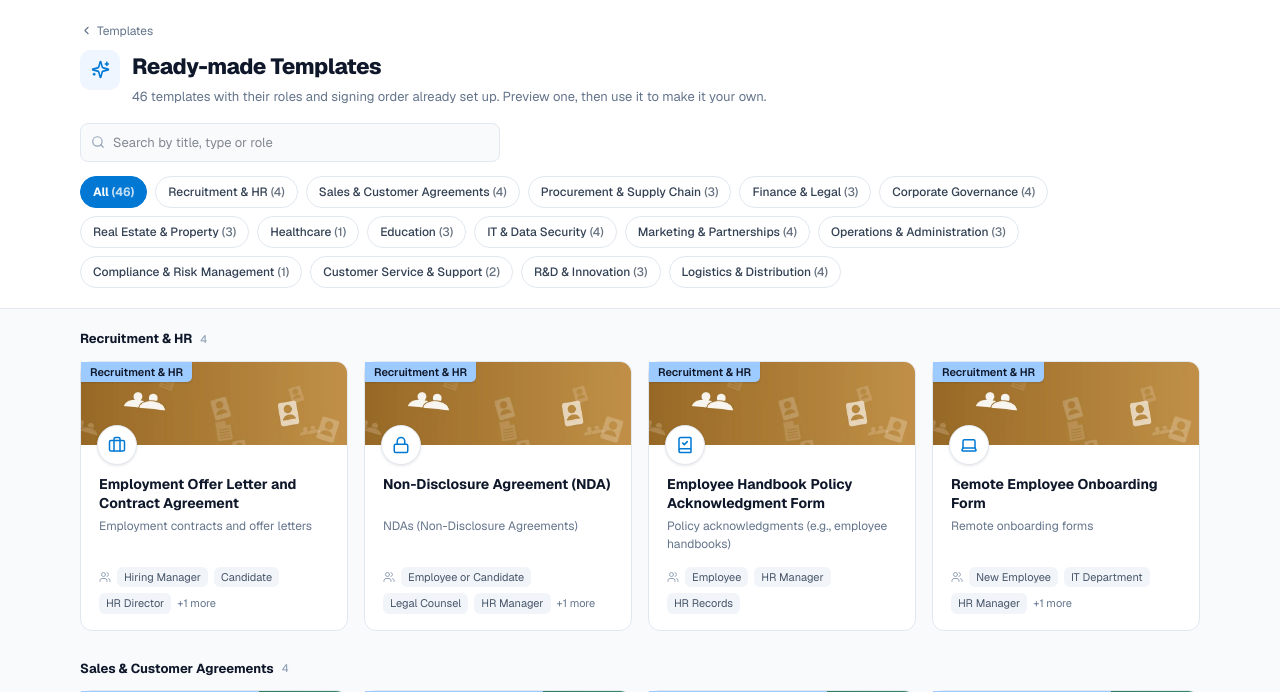
ready-made gallery › filters by category and search
Click the button "Healthcare (1)": click(308, 232) [257,216,359,248]
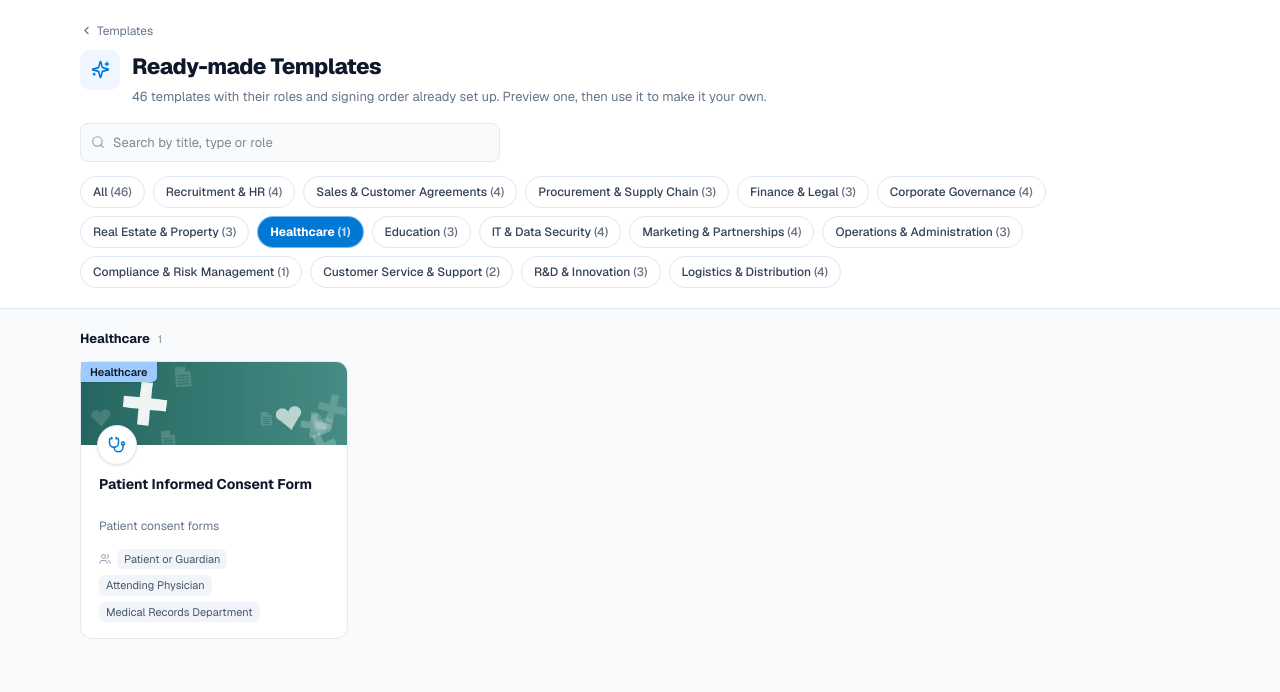
Check: the number of buttons named "Preview ready-made template" is 1, box [80,361,348,639]
Click the button "All (46)": click(112, 192) [80,176,145,208]
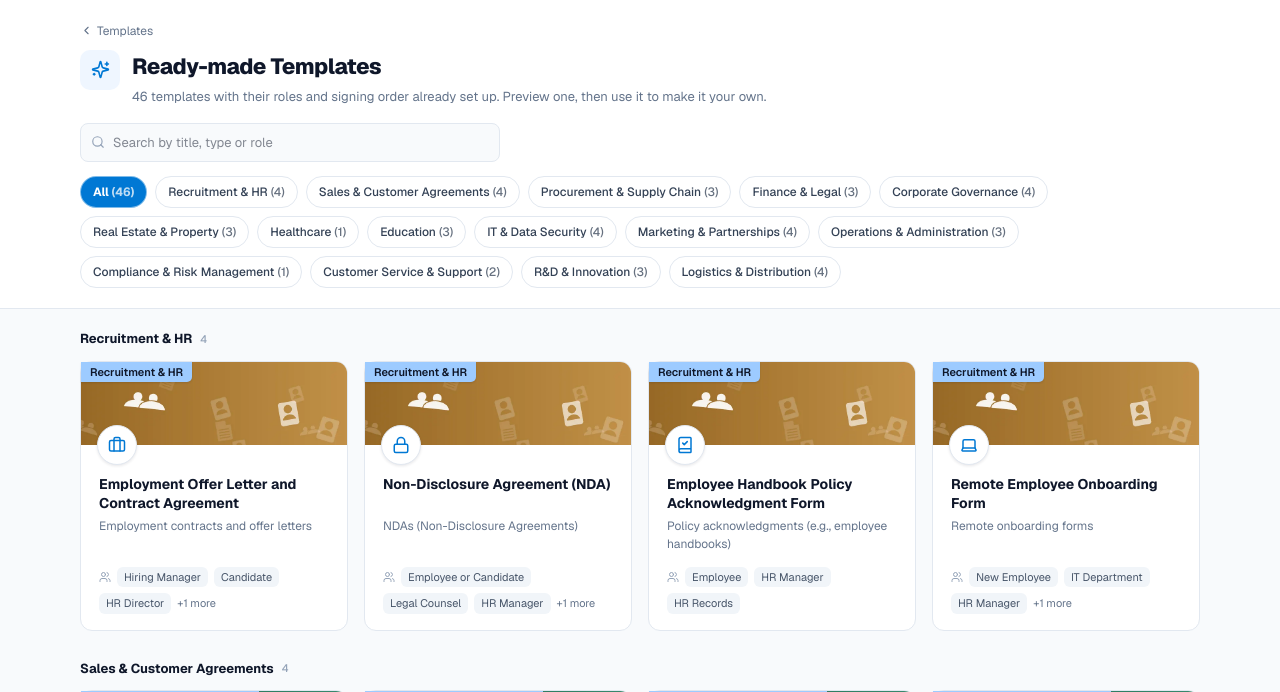
In the search field named "Search ready-made templates": (290, 142) [80,123,500,162], type "no-such-template-xyz"
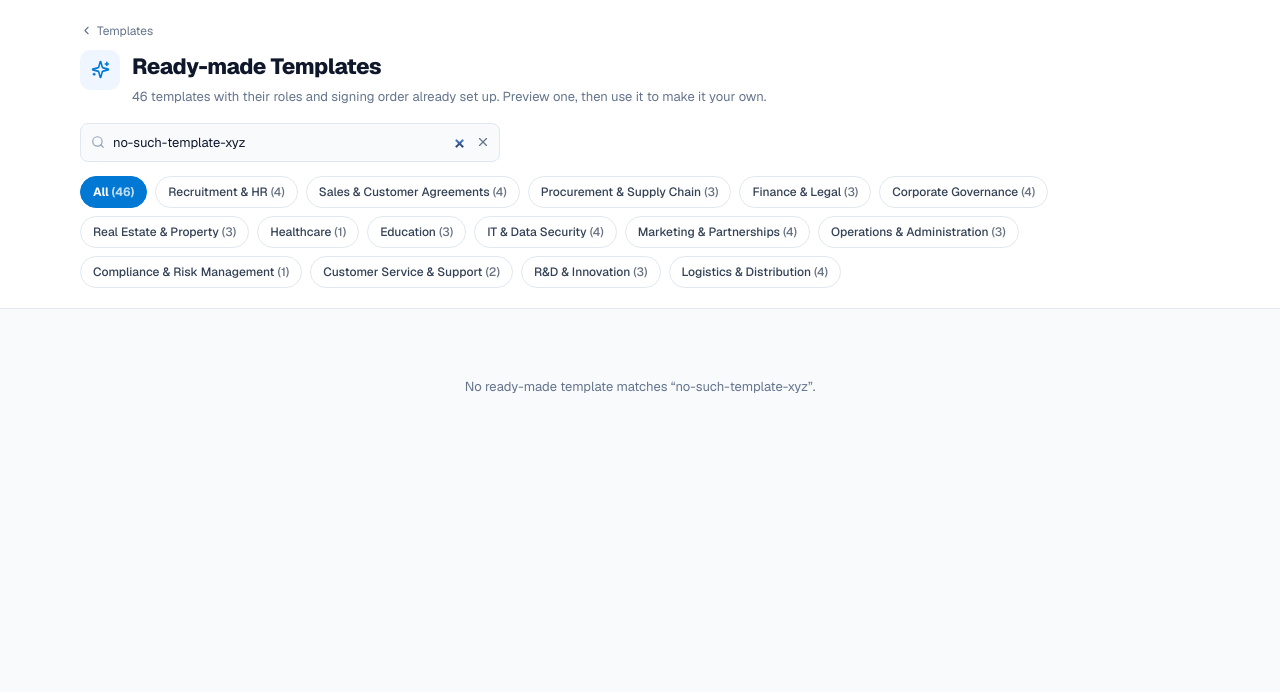
Check: the text "No ready-made template matches “no-such-template-xyz”." is shown, box [465,378,815,395]
